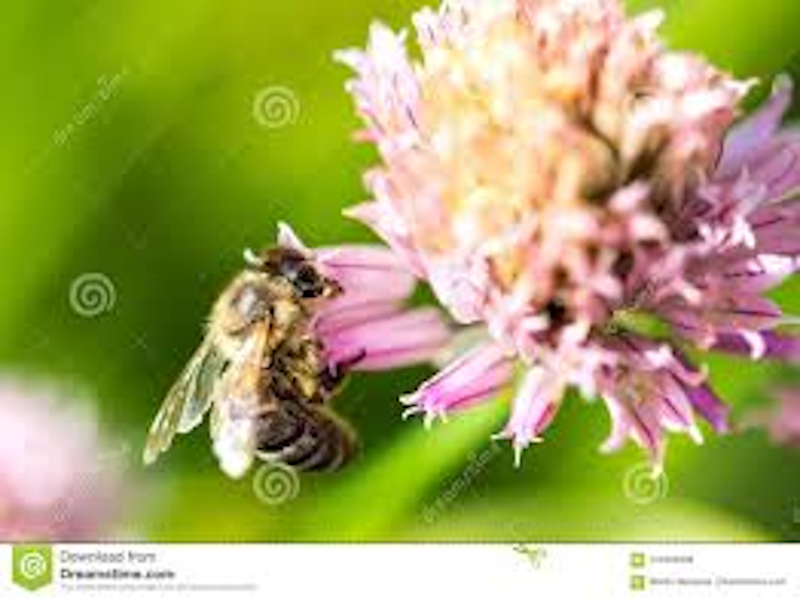abeja: (128, 237, 386, 514)
